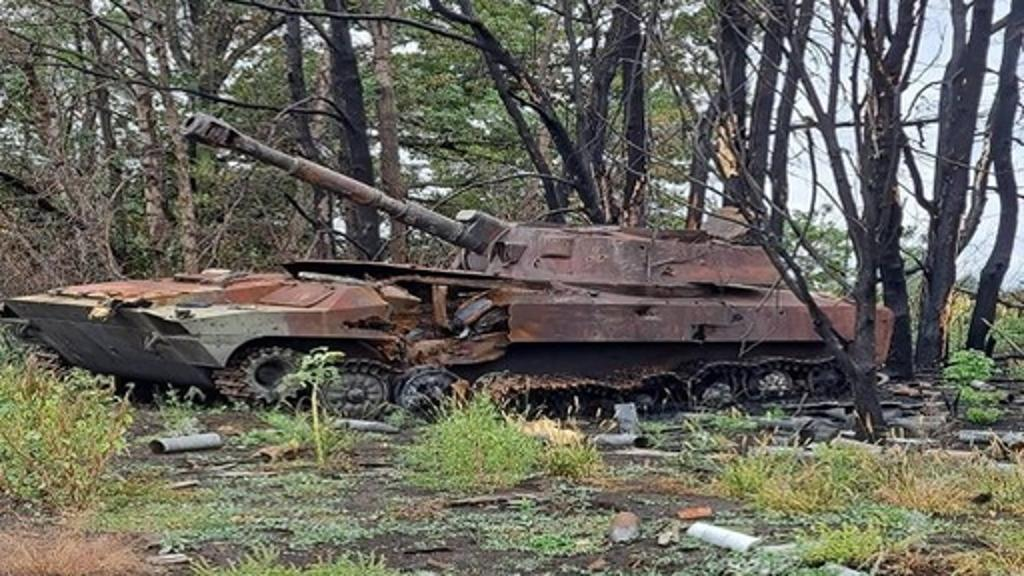ART: (2, 110, 894, 420)
